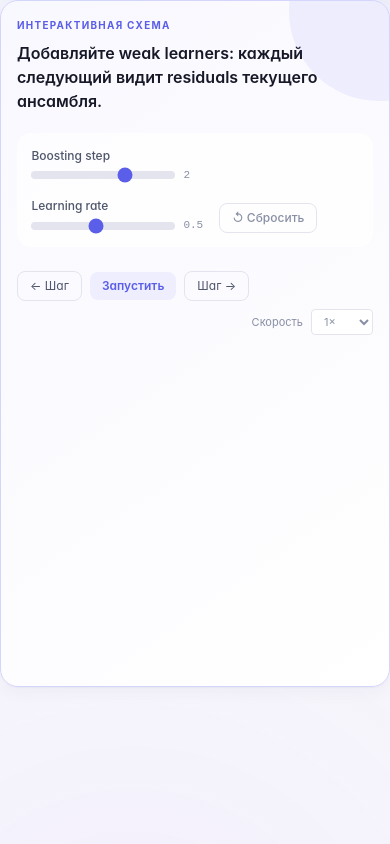
Test: SceneView visual demos › renders demo_id and recomputes the visualization after a slider change
Set the slider labelled "Learning rate 0.5" to "1". click: (167, 226)
box: [31,222,175,230]
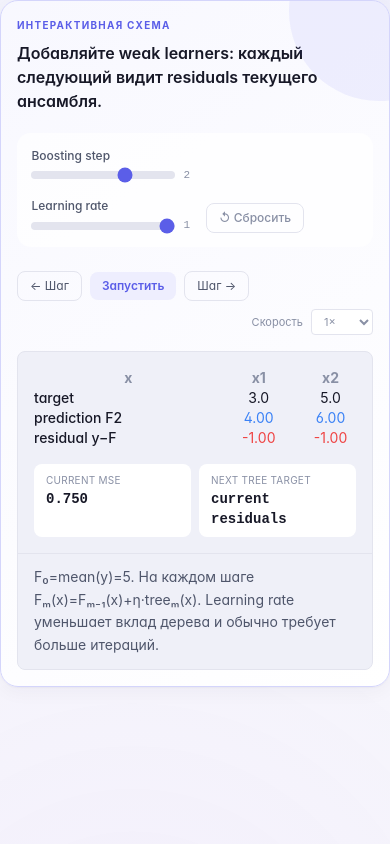
Result: the text "0.750" is shown at [46,491,88,507]
